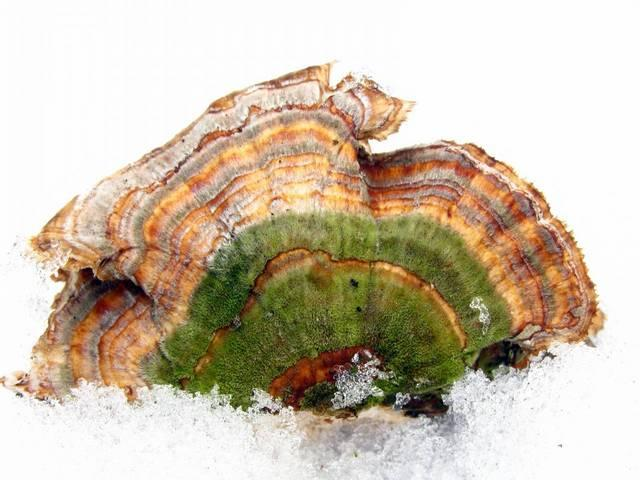poisonous_mushroom: (0, 59, 606, 421)
